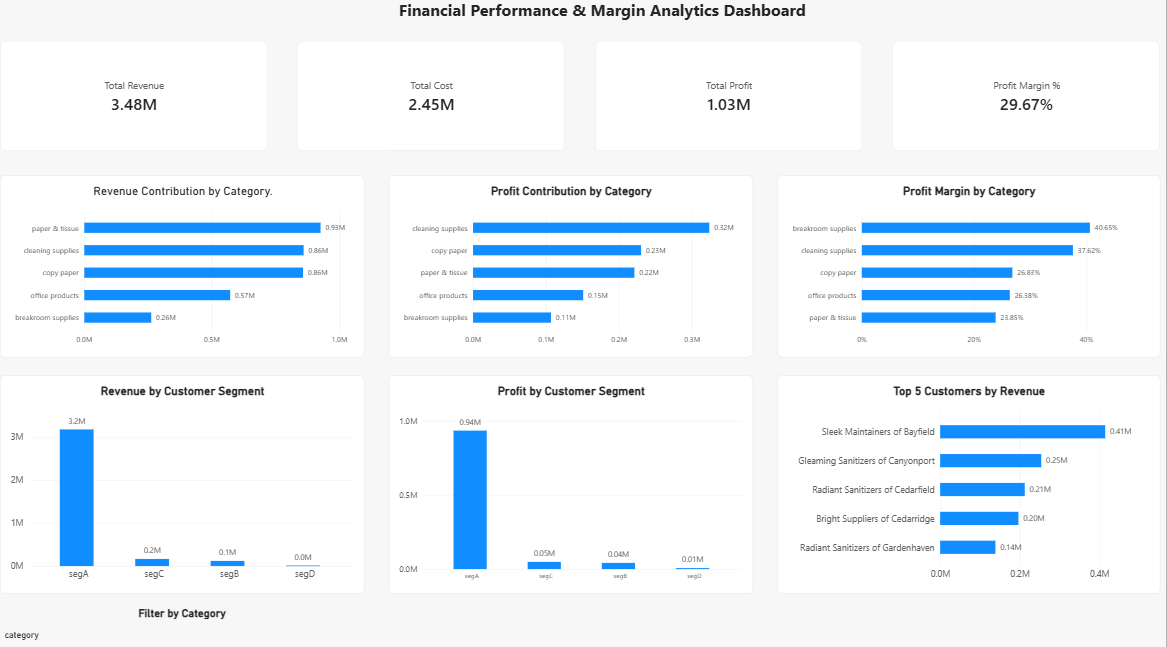

This screenshot's page, from the dashboard's own definition file:
{"tool":"powerbi","page":{"name":"Page 1","canvas":[1920,1080],"ordinal":0},"visuals":[{"type":"cardVisual","fields":{"Data":["financial_data_cleaned.Total Revenue"]},"box":[0,70,440,180],"z":0},{"type":"cardVisual","fields":{"Data":["financial_data_cleaned.Total Cost"]},"box":[490,70,440,180],"z":1000},{"type":"cardVisual","fields":{"Data":["financial_data_cleaned.Total Profit"]},"box":[980,70,440,180],"z":2000},{"type":"cardVisual","fields":{"Data":["financial_data_cleaned.Profit Margin %"]},"box":[1470,70,440,180],"z":3000},{"type":"clusteredBarChart","title":"Revenue Contribution by Category.","fields":{"Category":["financial_data_cleaned.category"],"Y":["Sum(financial_data_cleaned.revenue)"]},"box":[0,290,600,300],"z":4000},{"type":"clusteredBarChart","title":"Profit Contribution by Category","fields":{"Category":["financial_data_cleaned.category"],"Y":["Sum(financial_data_cleaned.margin)"]},"box":[640,290,600,300],"z":5000},{"type":"clusteredBarChart","title":"Profit Margin by Category","fields":{"Category":["financial_data_cleaned.category"],"Y":["financial_data_cleaned.Profit Margin %"]},"box":[1280,290,630,300],"z":6000},{"type":"clusteredColumnChart","title":"\tRevenue by Customer Segment","fields":{"Category":["financial_data_cleaned.segment"],"Y":["Sum(financial_data_cleaned.revenue)"]},"box":[0,620,600,360],"z":7000},{"type":"clusteredColumnChart","title":"\tProfit by Customer Segment","fields":{"Category":["financial_data_cleaned.segment"],"Y":["Sum(financial_data_cleaned.margin)"]},"box":[640,620,600,360],"z":8000},{"type":"textbox","box":[400,660,352,146],"z":9000},{"type":"textbox","box":[0,734,390,346],"z":10000},{"type":"textbox","box":[656.7,0,958,48],"z":11000},{"type":"clusteredBarChart","title":"Top 5 Customers by Revenue","fields":{"Category":["financial_data_cleaned.customer"],"Y":["Sum(financial_data_cleaned.revenue)"]},"box":[1280,620,630,360],"z":12000},{"type":"slicer","title":"Filter by Category","fields":{"Values":["financial_data_cleaned.category"]},"box":[0,1000,600,55],"z":12001}]}

Visuals, with their boxes in screenshot pixels (x1, y1, x2, y2), scaled from the page's 1920x1080 canvas onto the 1167x647 screenshot:
cardVisual - financial_data_cleaned.Total Revenue: bbox=[0, 42, 267, 150]
cardVisual - financial_data_cleaned.Total Cost: bbox=[298, 42, 565, 150]
cardVisual - financial_data_cleaned.Total Profit: bbox=[596, 42, 863, 150]
cardVisual - financial_data_cleaned.Profit Margin %: bbox=[893, 42, 1161, 150]
"Revenue Contribution by Category." clusteredBarChart: bbox=[0, 174, 365, 353]
"Profit Contribution by Category" clusteredBarChart: bbox=[389, 174, 754, 353]
"Profit Margin by Category" clusteredBarChart: bbox=[778, 174, 1161, 353]
"	Revenue by Customer Segment" clusteredColumnChart: bbox=[0, 371, 365, 587]
"	Profit by Customer Segment" clusteredColumnChart: bbox=[389, 371, 754, 587]
textbox: bbox=[243, 395, 457, 483]
textbox: bbox=[0, 440, 237, 646]
textbox: bbox=[399, 0, 981, 29]
"Top 5 Customers by Revenue" clusteredBarChart: bbox=[778, 371, 1161, 587]
"Filter by Category" slicer: bbox=[0, 599, 365, 632]
